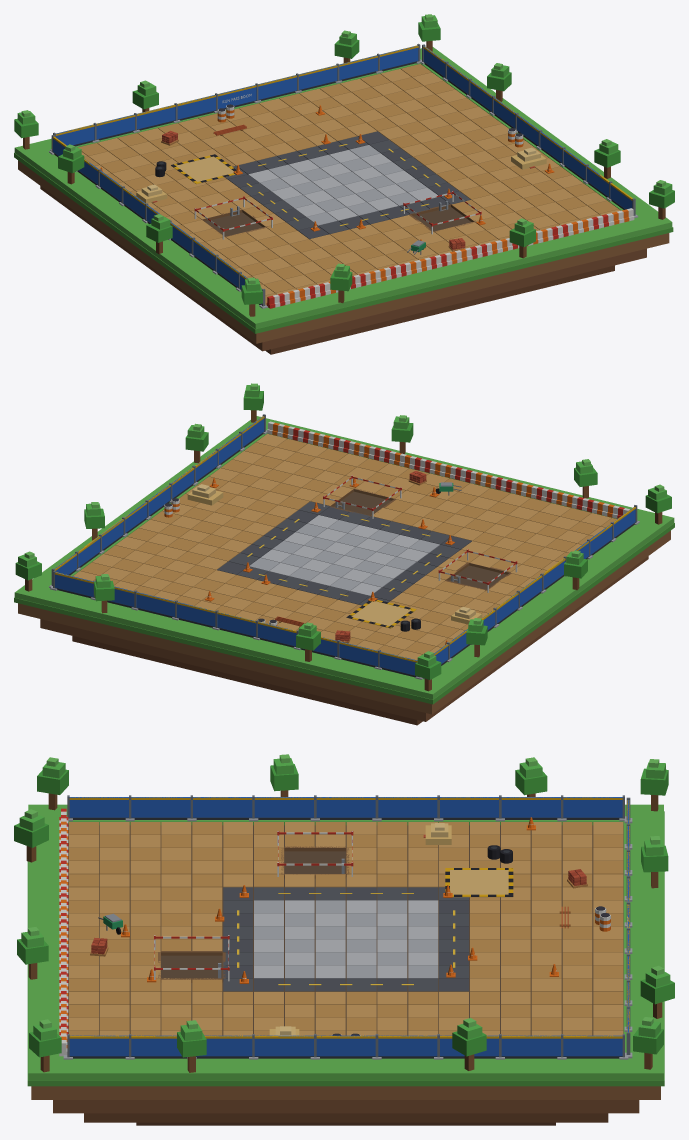
Rendered from site.glb.
3 renders of one model, top to bottom at view 1: azimuth 30°, elevation 25°; view 2: azimuth 150°, elevation 25°; view 3: azimuth 270°, elevation 25°, orthographic. The views are drawn at different scales.
Parts seen in each view (by area): view 1: site; view 2: site; view 3: site.
Part boxes in pixels (x1=…): site: x1=14, y1=14, x2=674, y2=354; site: x1=14, y1=383, x2=674, y2=725; site: x1=14, y1=754, x2=674, y2=1125.
Size of the model in its own units: 42.69 by 10.47 by 42.85.
